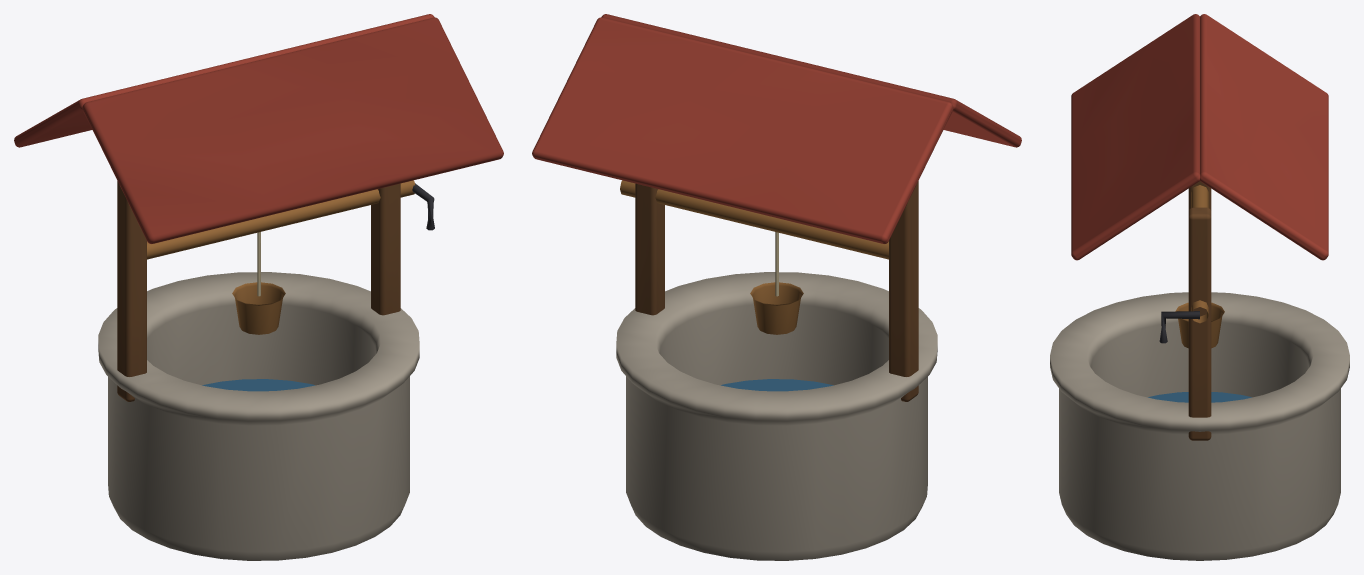
Rendered from well.glb.
3 renders of one model, left to right at view 1: azimuth 30°, elevation 25°; view 2: azimuth 150°, elevation 25°; view 3: azimuth 270°, elevation 25°, orthographic. The views are drawn at different scales.
Parts seen in each view (by area): view 1: well_main, well_water; view 2: well_main, well_water; view 3: well_main, well_water.
Boxes of the visible parts, x1,y1,x2,y2 form: well_main: [14, 14, 503, 560]; well_water: [202, 379, 314, 391]; well_main: [532, 14, 1021, 560]; well_water: [721, 379, 833, 391]; well_main: [1050, 14, 1349, 560]; well_water: [1148, 392, 1251, 402].
Size of the model in its own units: 1.68 by 1.99 by 1.32.
